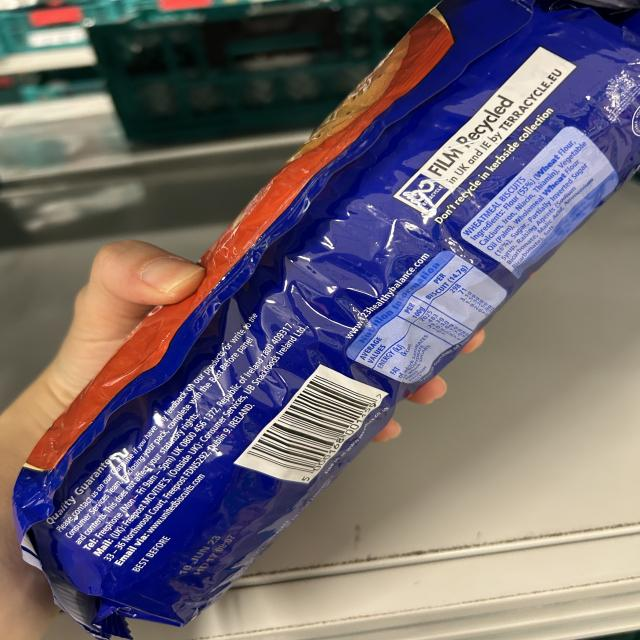object_name: (60, 21, 616, 606)
